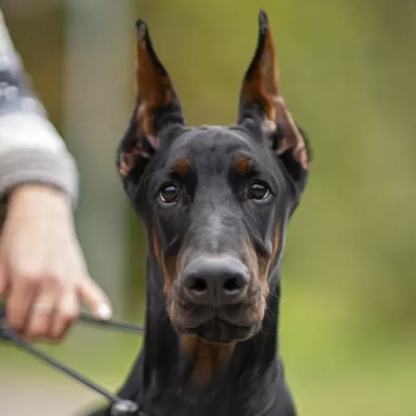doberman: (99, 15, 312, 415)
